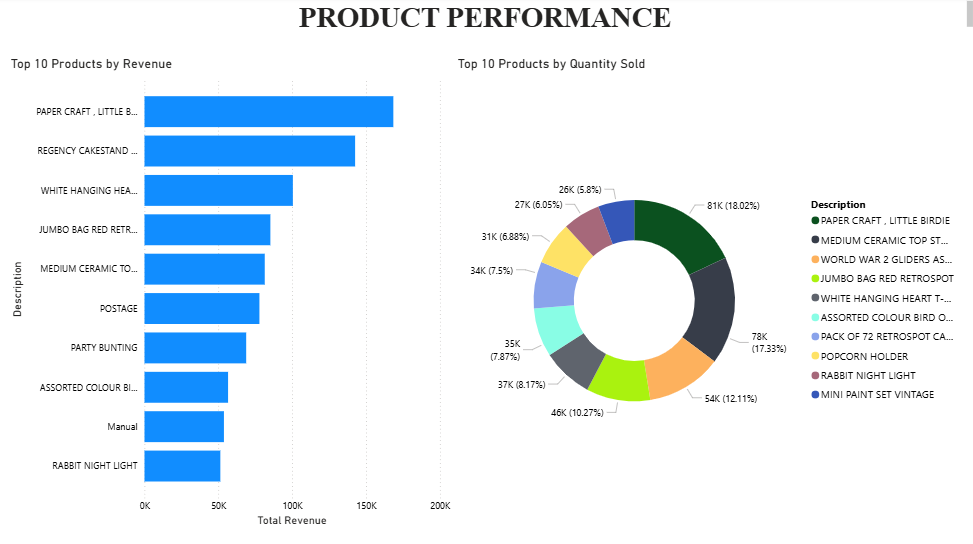

The page's visual inventory and layout, read from the dashboard file:
{"tool":"powerbi","page":{"name":"Page 3","canvas":[1280,720],"ordinal":2},"visuals":[{"type":"textbox","box":[0,0,1280,47.5],"z":0},{"type":"clusteredBarChart","title":"Top 10 Products by Revenue","fields":{"Category":["cleaned_ecommerce_data.Description"],"Y":["Sum(cleaned_ecommerce_data.Revenue)"]},"box":[10.2,77.6,585.7,620.4],"z":1000},{"type":"donutChart","title":"Top 10 Products by Quantity Sold","fields":{"Category":["cleaned_ecommerce_data.Description"],"Y":["Sum(cleaned_ecommerce_data.Quantity)"]},"box":[595.7,77.1,670,621.4],"z":2003}]}

Visuals, with their boxes in screenshot pixels (x1, y1, x2, y2), scaled from the page's 1280x720 canvas onto the 973x544 screenshot:
textbox: box=[0, 0, 972, 36]
"Top 10 Products by Revenue" clusteredBarChart: box=[8, 59, 453, 527]
"Top 10 Products by Quantity Sold" donutChart: box=[453, 58, 962, 528]
